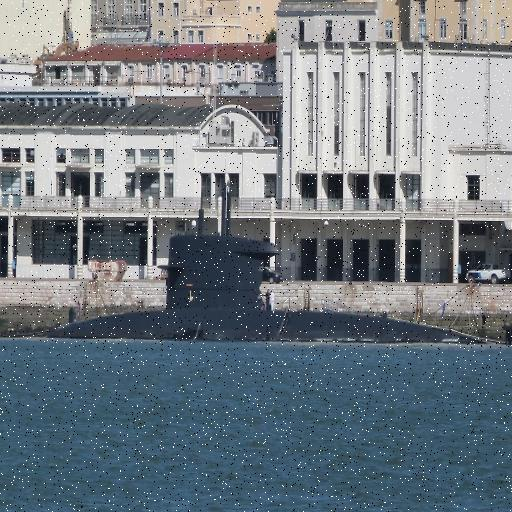submarine: (48, 235, 512, 344)
